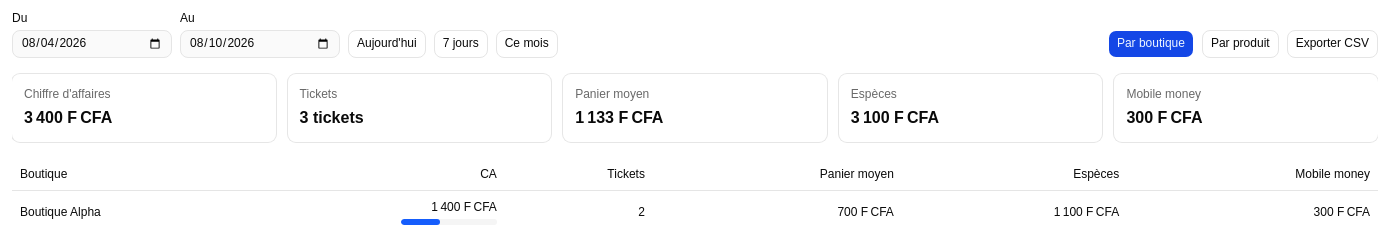
RapportVentes › bascule vers le groupement par produit
Expected: the text "Boutique Alpha" is shown, [12,190,280,232]
What coordinates should you click on to do the following:
click the button "Par produit"
I would click on:
 (1240, 44)
Its box is [1202,30,1279,58].
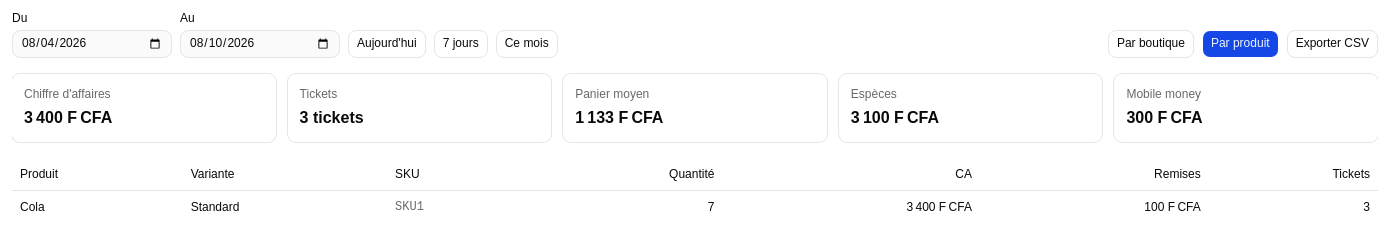
Expected: the text "7" is shown, [529,190,722,222]
Expected: the text "Cola" is shown, [12,190,183,222]
